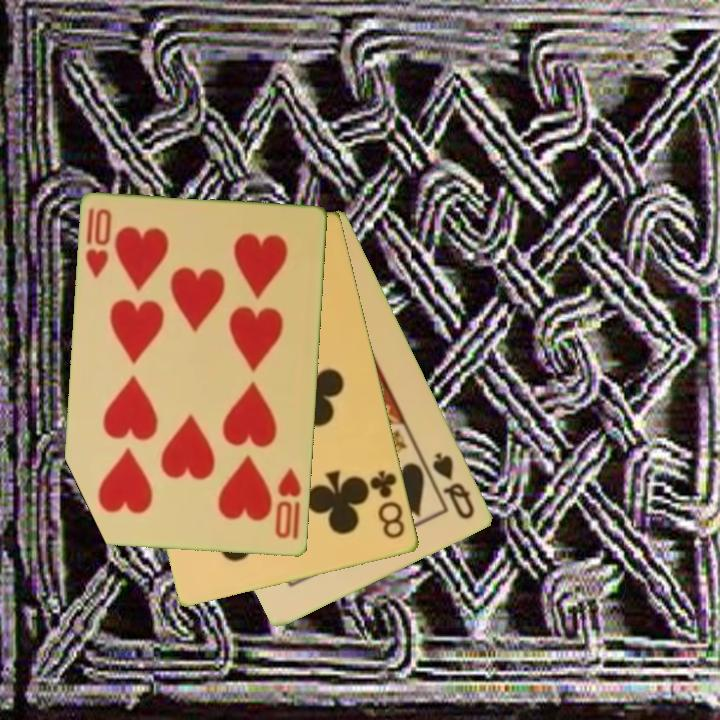10h: (82, 204, 115, 282), (272, 465, 304, 542)
8c: (366, 466, 408, 542)
Qs: (429, 449, 479, 523)
